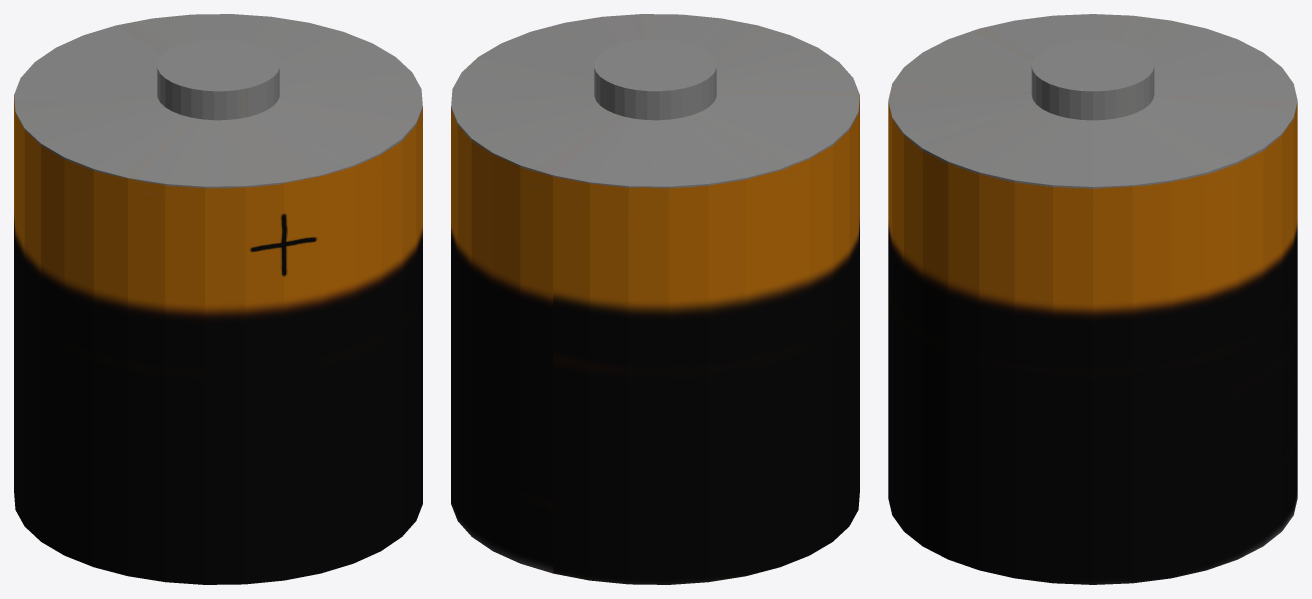
The model's file is battery4.glb.
The picture shows the model from 3 angles, left to right: view 1: azimuth 30°, elevation 25°; view 2: azimuth 150°, elevation 25°; view 3: azimuth 270°, elevation 25°; orthographic projection.
Parts seen in each view (by area): view 1: Cylinder; view 2: Cylinder; view 3: Cylinder.
Boxes of the visible parts, x1,y1,x2,y2 form: Cylinder: (14, 14, 422, 584); Cylinder: (451, 14, 859, 584); Cylinder: (888, 14, 1297, 584).
Bounding box in the file's own units: 1.01 × 1.2 × 1.01.
Materials: 1 (1 with a texture image).
